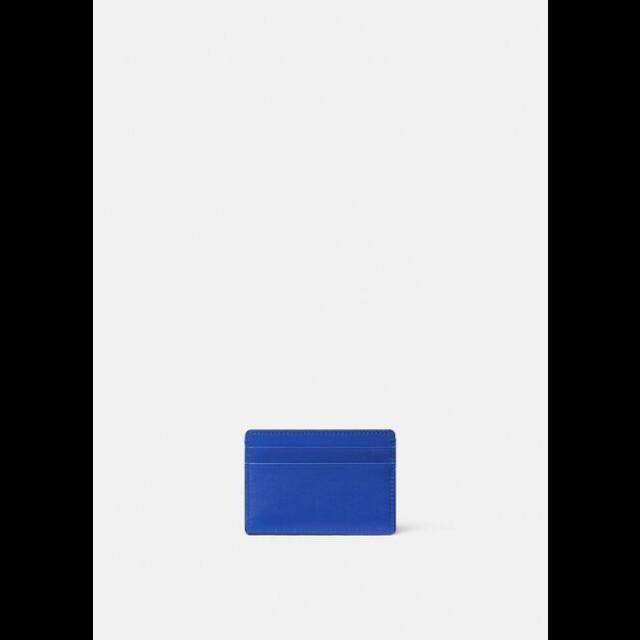wallet: (237, 422, 403, 536)
